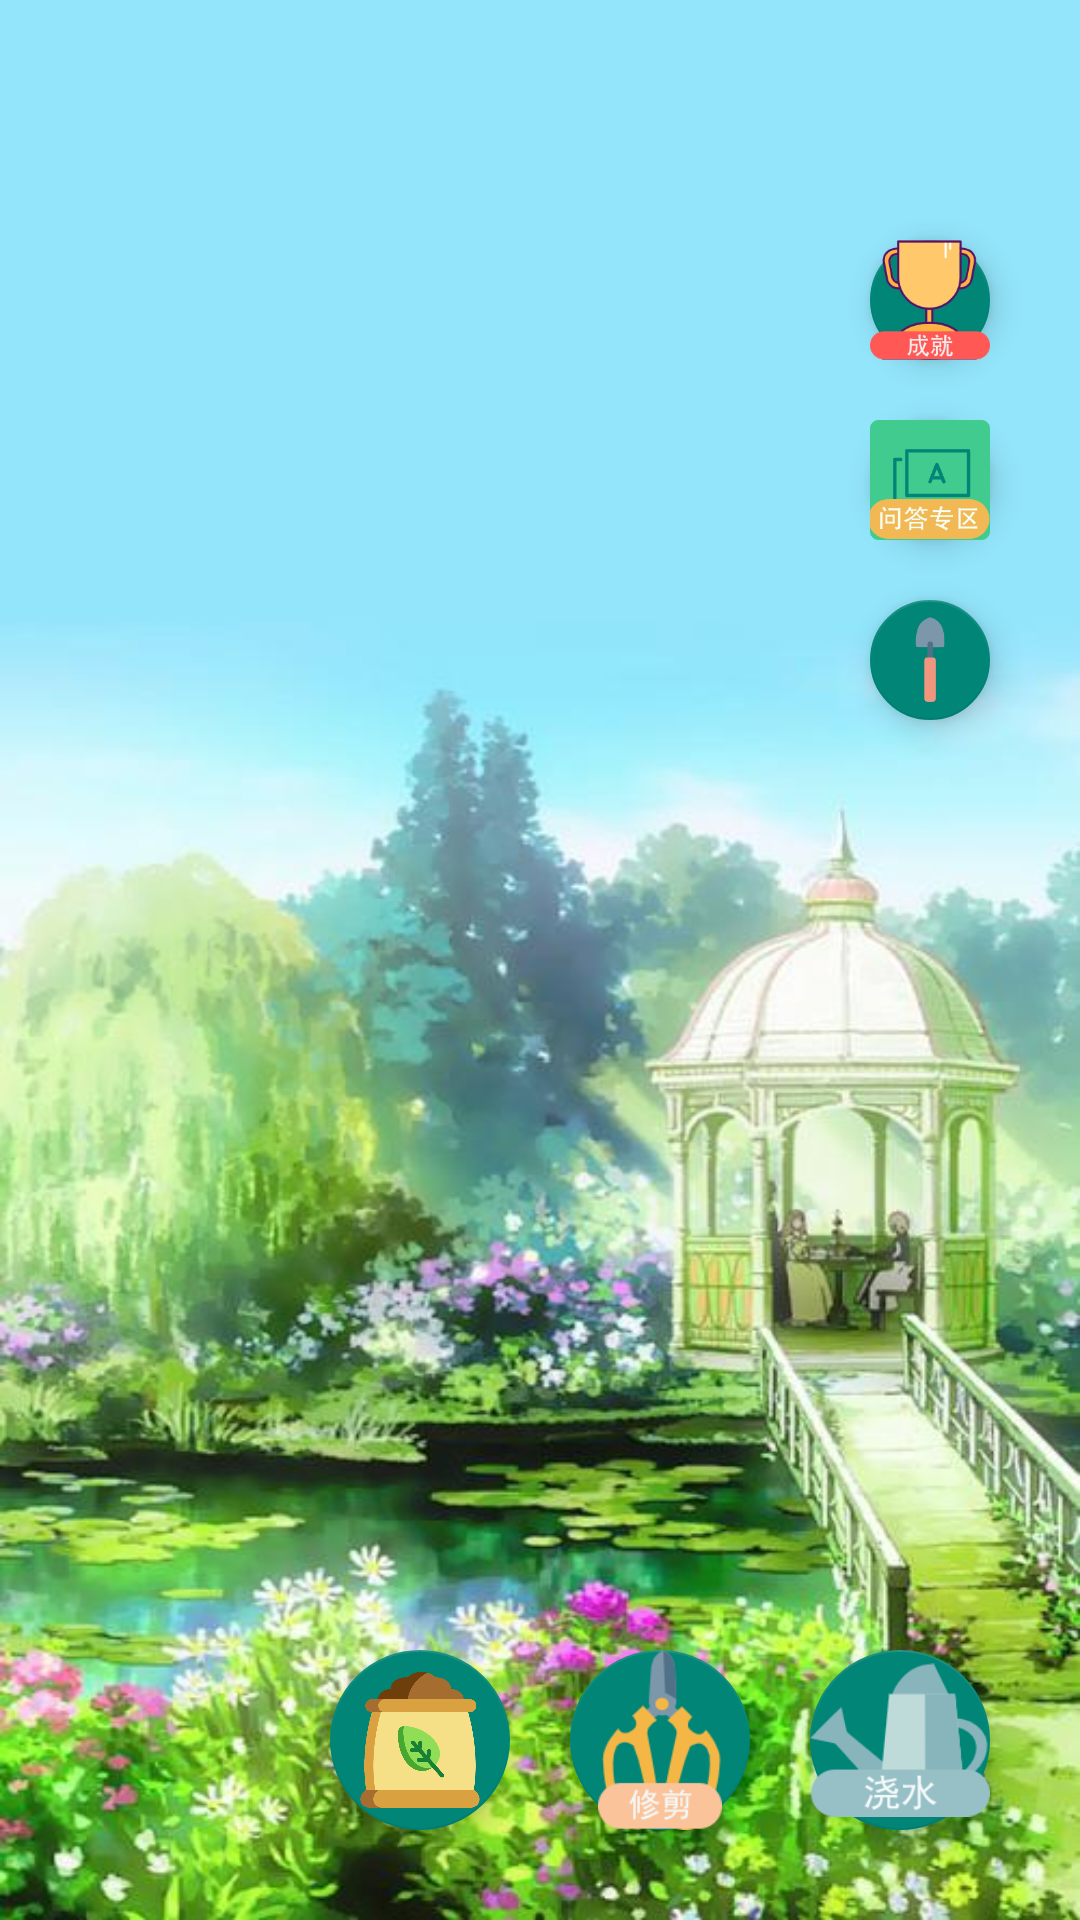

Icons on this 1080px×1920px Android screen, each with the point to tap as (x,y):
fertilize: (420,1740)
loosen: (930,660)
